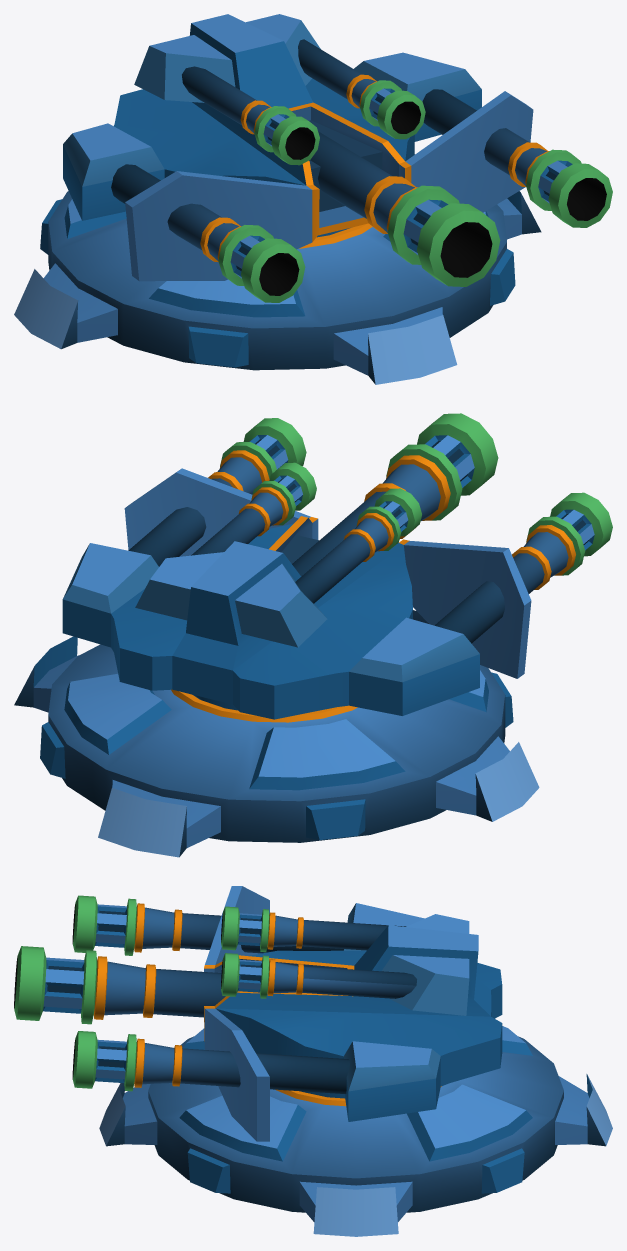
The model's file is Grenade-gun_03.fbx.
3 views of the same model, one above another, from view 1: azimuth 30°, elevation 25°; view 2: azimuth 150°, elevation 25°; view 3: azimuth 270°, elevation 25° (orthographic). The views are drawn at different scales.
Visible parts, largest first — view 1: Grenade-gun_03, Grenade-gun_Platform; view 2: Grenade-gun_03, Grenade-gun_Platform; view 3: Grenade-gun_03, Grenade-gun_Platform.
Part boxes in pixels (box(x1,y1,x2,y2)): Grenade-gun_03: box(63, 14, 612, 302); Grenade-gun_Platform: box(14, 191, 541, 384); Grenade-gun_03: box(62, 413, 612, 719); Grenade-gun_Platform: box(14, 610, 539, 857); Grenade-gun_03: box(14, 886, 502, 1141); Grenade-gun_Platform: box(99, 1026, 612, 1236).
Size of the model in its own units: 2.47 by 1.05 by 2.88.
